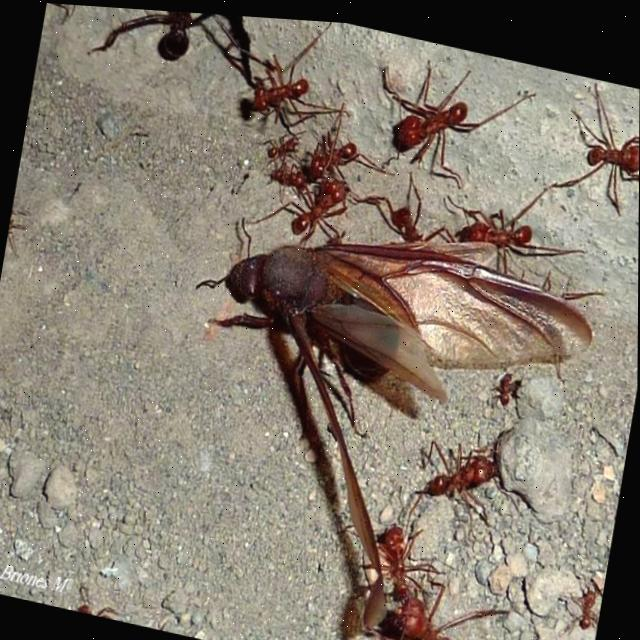Alive-Female-Alate: (146, 173, 605, 640)
